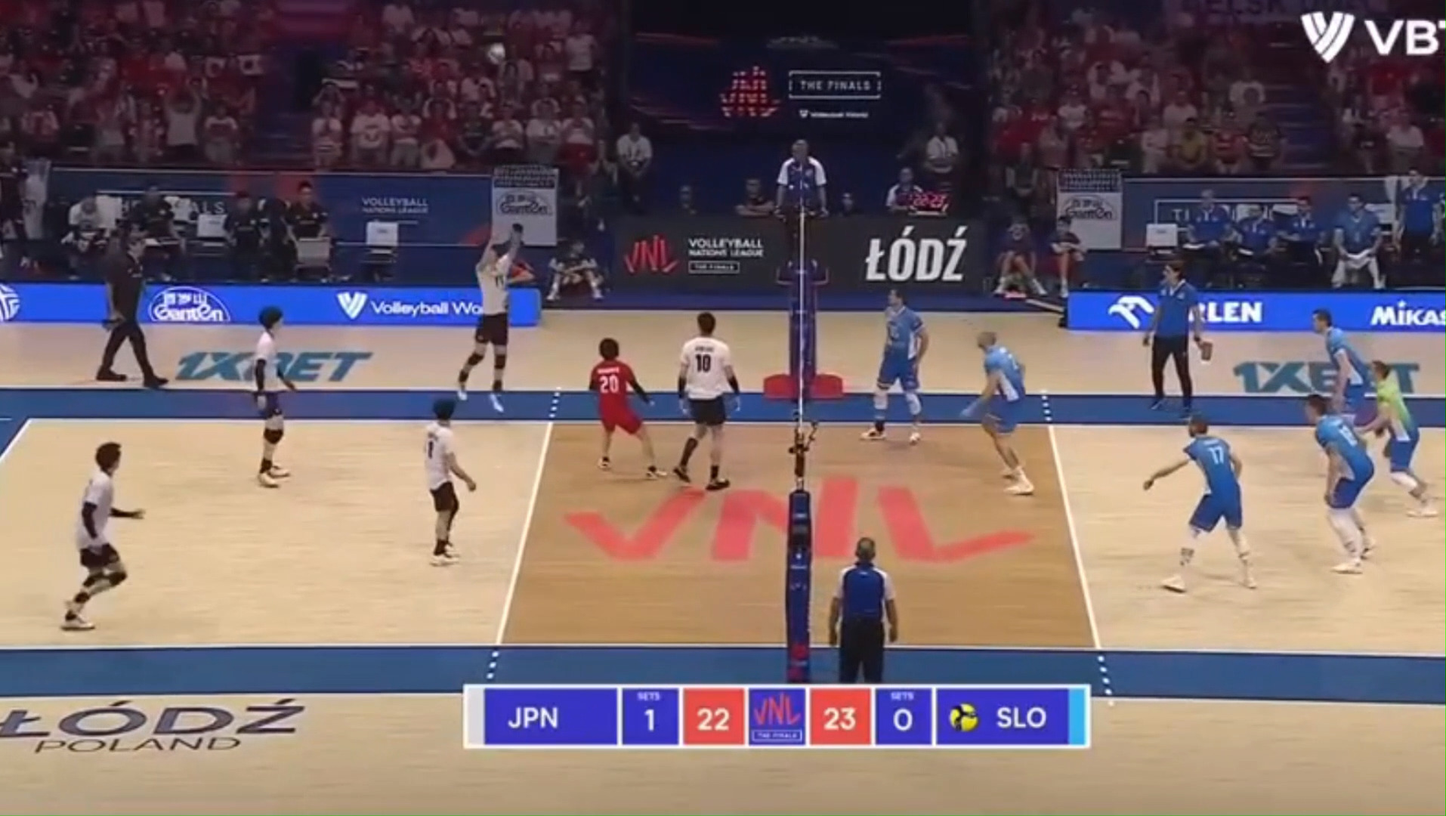ball: (485, 41, 507, 65)
player: (1307, 395, 1376, 572), (962, 331, 1034, 495), (860, 289, 928, 444), (1371, 380, 1435, 517), (1312, 309, 1376, 420), (1185, 435, 1242, 531)
player 1: (61, 442, 144, 630), (456, 224, 522, 412), (672, 312, 740, 490), (588, 338, 660, 478), (424, 399, 476, 565), (252, 306, 295, 487)
referee: (96, 233, 168, 388), (827, 537, 898, 683), (1142, 261, 1205, 413), (774, 138, 830, 294)
